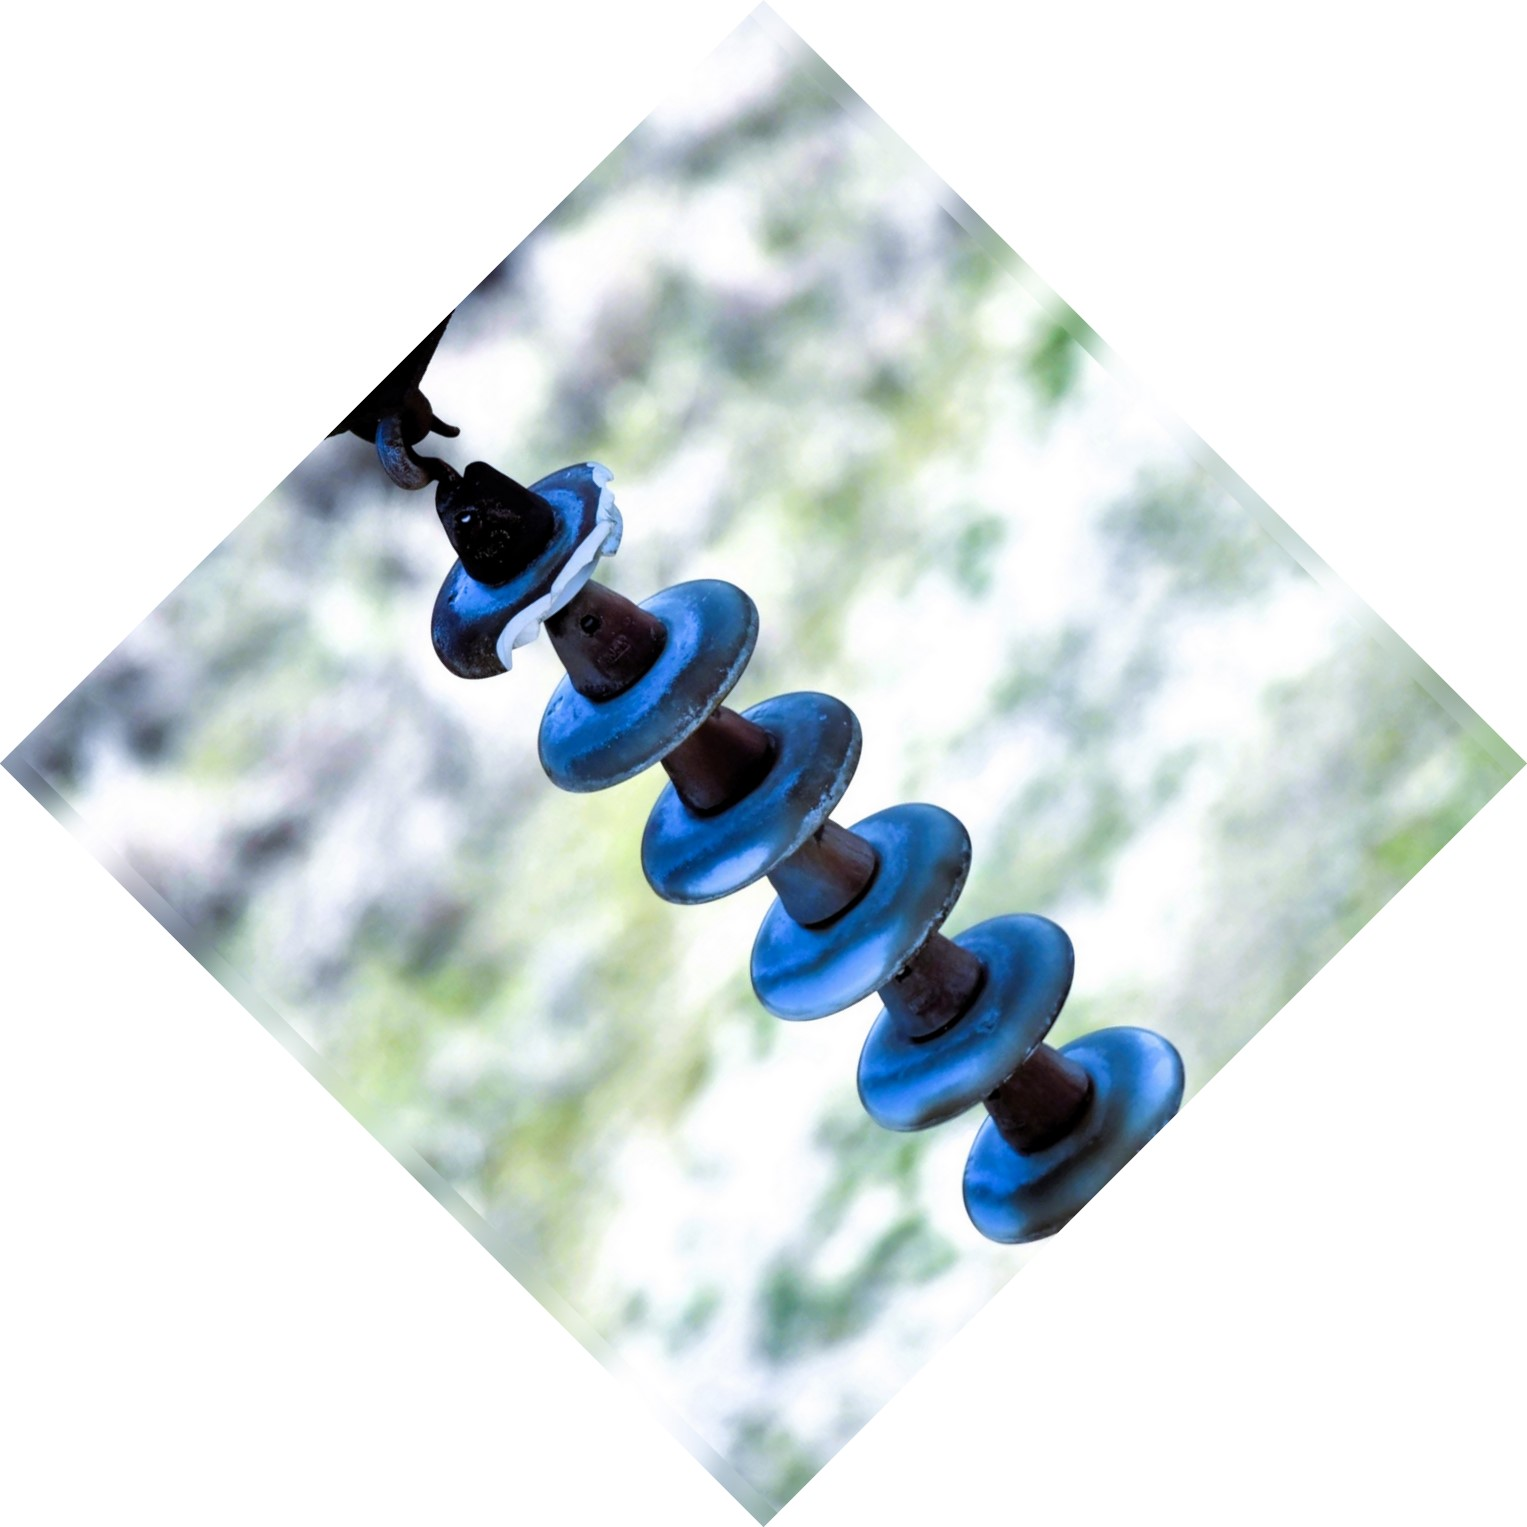insulator breakage: (414, 439, 643, 691)
